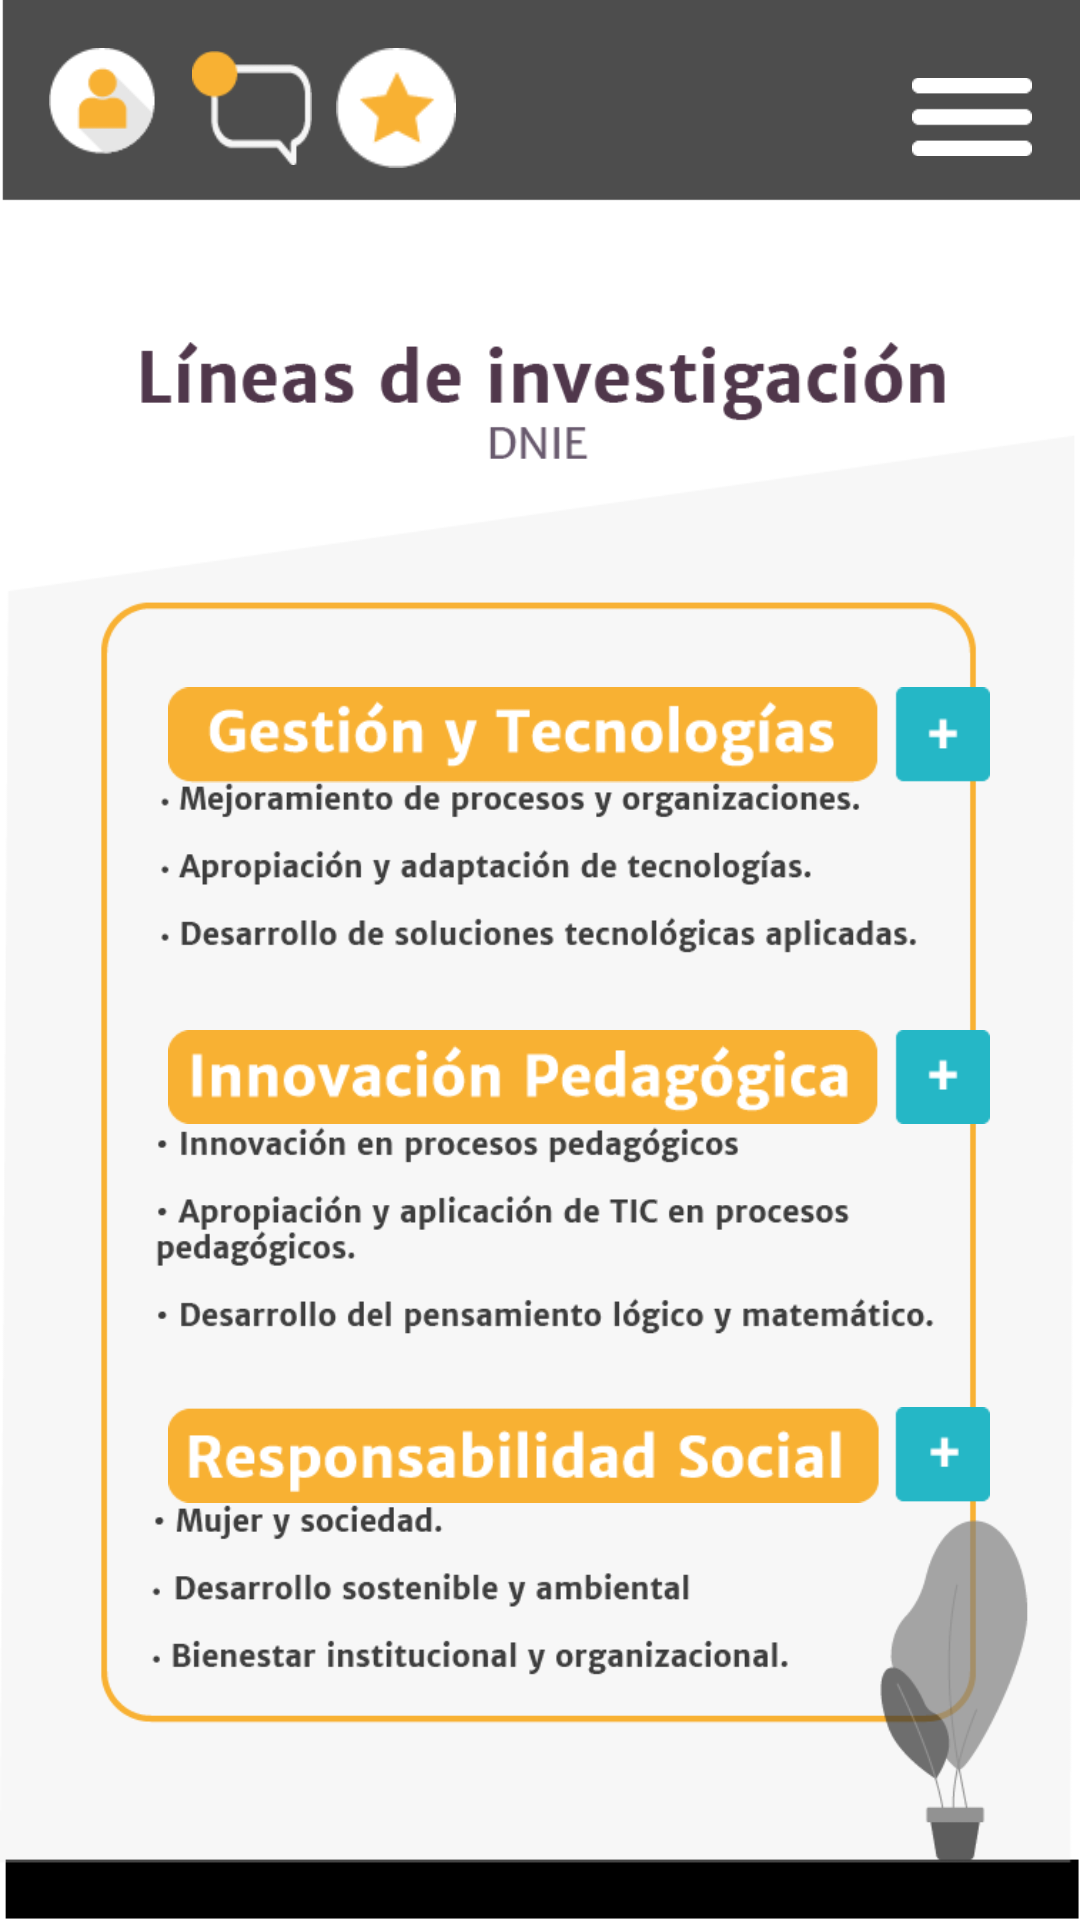

Locate icon controls on the screen. Image size 1080 × 1920, boxes as region(x1, y1, x2, y2).
estrella: region(336, 48, 456, 168)
mensaje: region(192, 51, 312, 165)
tres lineas: region(912, 78, 1032, 156)
